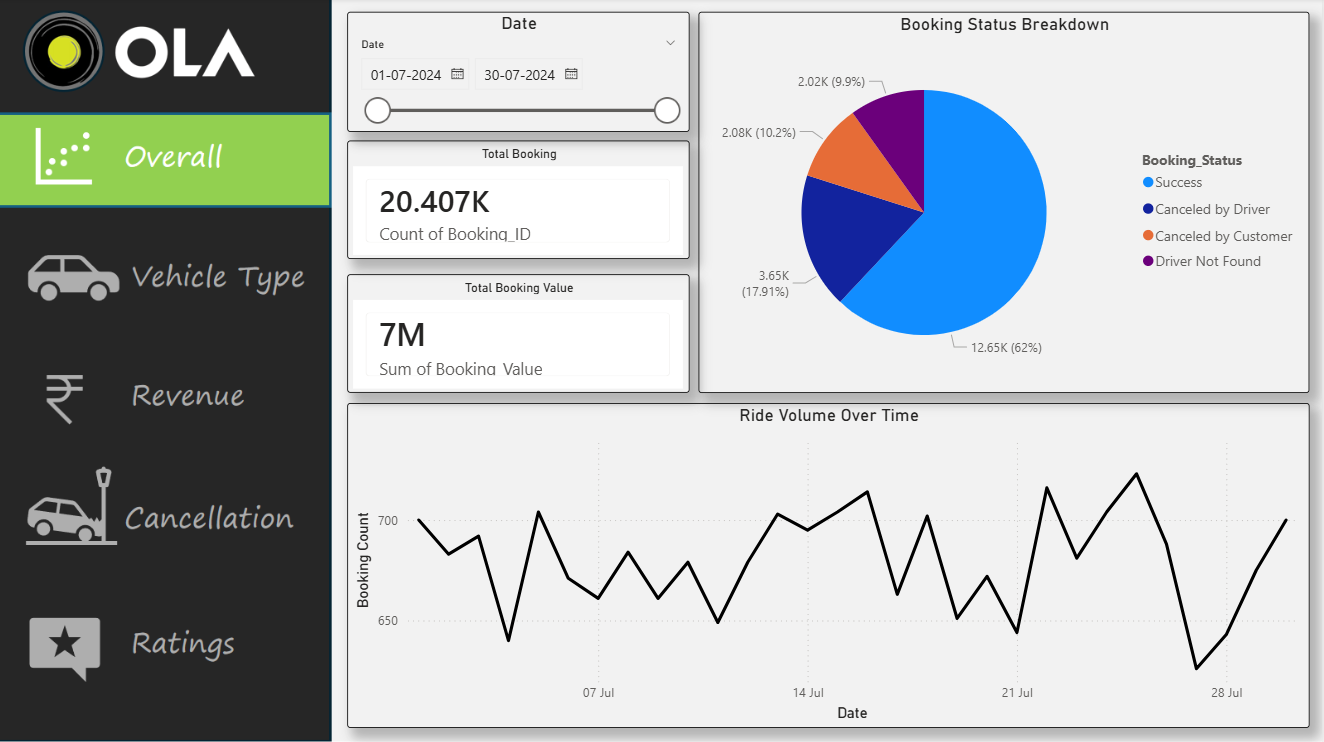

The dashboard page shown, as its layout file describes it:
{"tool":"powerbi","page":{"name":"overall","canvas":[1280,720],"ordinal":0},"visuals":[{"type":"actionButton","box":[0,223.2,325.7,89.3],"z":0},{"type":"actionButton","box":[0,336.6,325.7,89.3],"z":1000},{"type":"actionButton","box":[0,447.6,325.7,89.3],"z":2000},{"type":"actionButton","box":[0,579.1,325.7,89.3],"z":3000},{"type":"lineChart","title":"Ride Volume Over Time","fields":{"Y":["CountNonNull(July (2).Booking_ID)"],"Category":["July (2).Date"]},"box":[339,390.9,929,313.7],"z":4000},{"type":"pieChart","title":"Booking Status Breakdown","fields":{"Category":["July (2).Booking_Status"],"Y":["CountNonNull(July (2).Booking_Status)"]},"box":[678,13.3,589.9,368],"z":5000},{"type":"slicer","title":"Date","fields":{"Values":["July (2).Date"]},"box":[339,13.3,330.6,115.8],"z":6000},{"type":"cardVisual","title":"Total Booking","fields":{"Data":["Count(July (2).Booking_ID)"]},"box":[339,137.5,330.6,114.6],"z":7000},{"type":"cardVisual","title":"Total Booking Value","fields":{"Data":["Sum(July (2).Booking_Value)"]},"box":[339,266.6,330.6,114.6],"z":8000}]}

Visuals, with their boxes in screenshot pixels (x1, y1, x2, y2), scaled from the page's 1280x720 canvas onto the 1324x742 screenshot:
actionButton: 0:230:337:322
actionButton: 0:347:337:439
actionButton: 0:461:337:553
actionButton: 0:597:337:689
"Ride Volume Over Time" lineChart: 351:403:1312:726
"Booking Status Breakdown" pieChart: 701:14:1311:393
"Date" slicer: 351:14:693:133
"Total Booking" cardVisual: 351:142:693:260
"Total Booking Value" cardVisual: 351:275:693:393
